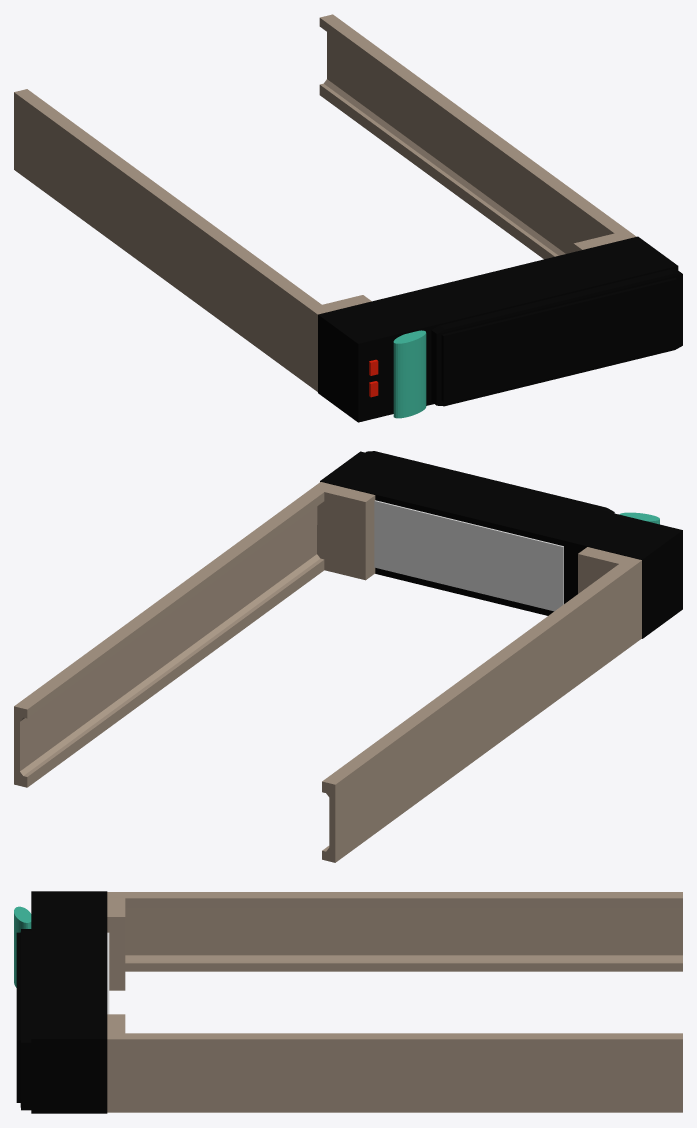
Rendered from lp_drive_frame.glb.
3 views of the same model, one above another, from view 1: azimuth 30°, elevation 25°; view 2: azimuth 150°, elevation 25°; view 3: azimuth 270°, elevation 25° (orthographic). The views are drawn at different scales.
Parts seen in each view (by area): view 1: Cube.020; view 2: Cube.020; view 3: Cube.020.
Boxes of the visible parts, bbox=[...] form: Cube.020: bbox=[14, 14, 682, 422]; Cube.020: bbox=[14, 451, 682, 862]; Cube.020: bbox=[14, 891, 682, 1113].
Size of the model in its own units: 0.0715 by 0.0168 by 0.1369.
